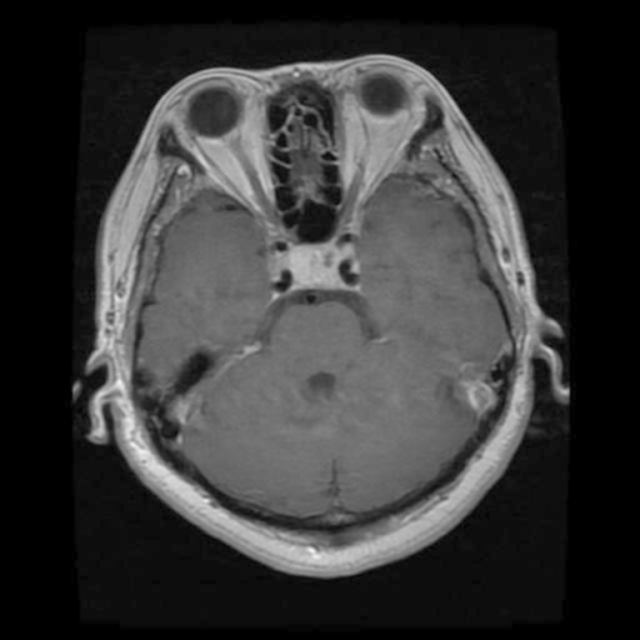no tumor: (282, 234, 368, 292)
